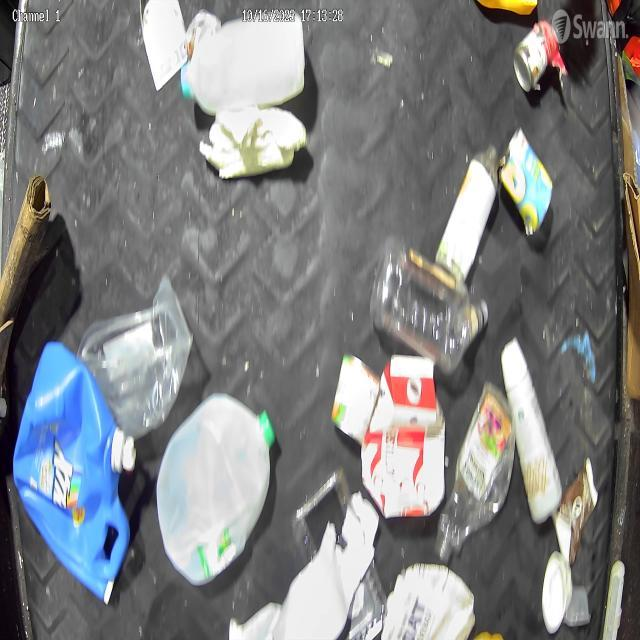can: (501, 130, 556, 234), (515, 12, 571, 103)
milk_jug: (152, 392, 279, 582), (178, 1, 308, 112)
non_white_jug: (10, 338, 136, 606)
plastic_bottle: (367, 235, 488, 366)
